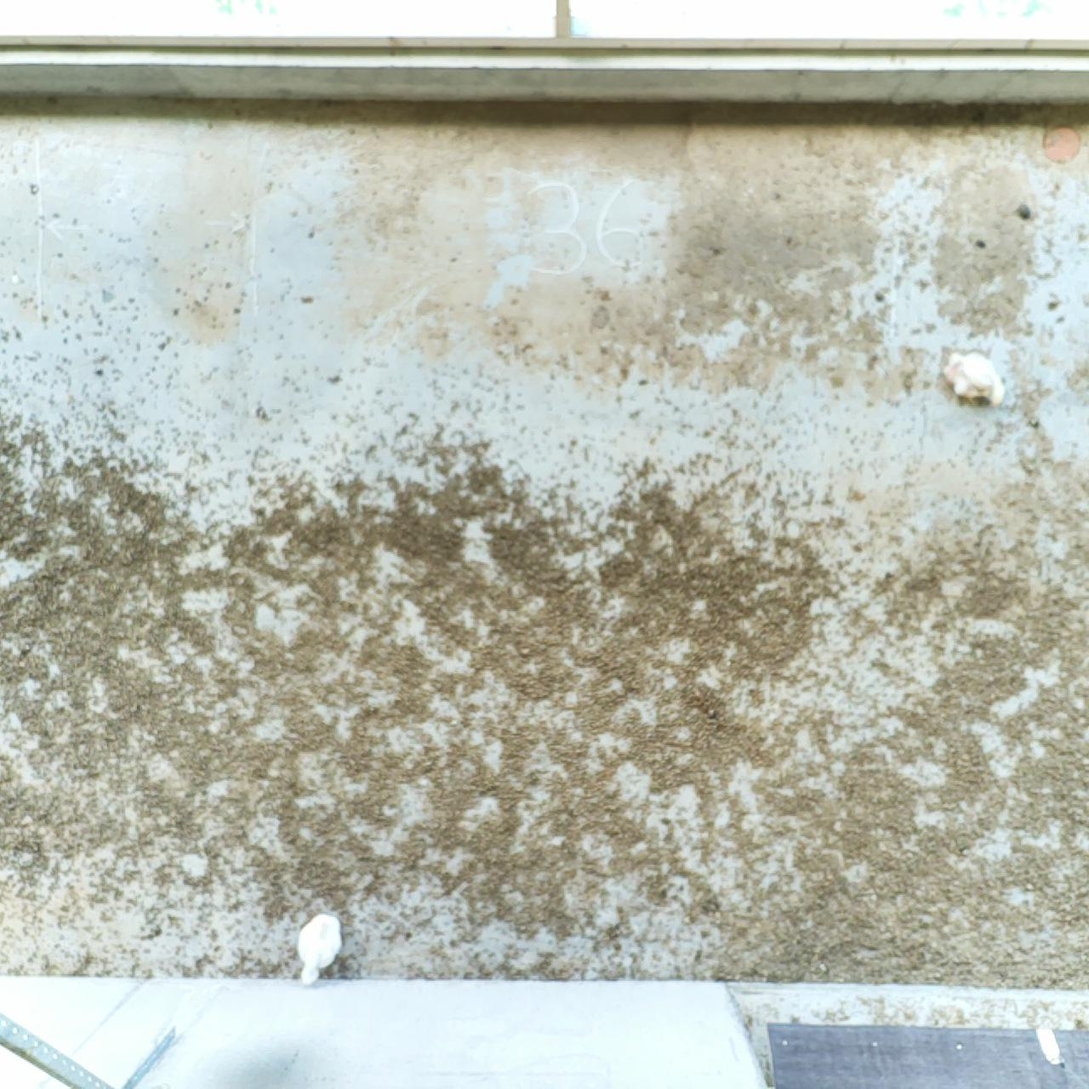chicken: (290, 910, 350, 989), (944, 343, 1006, 414)
